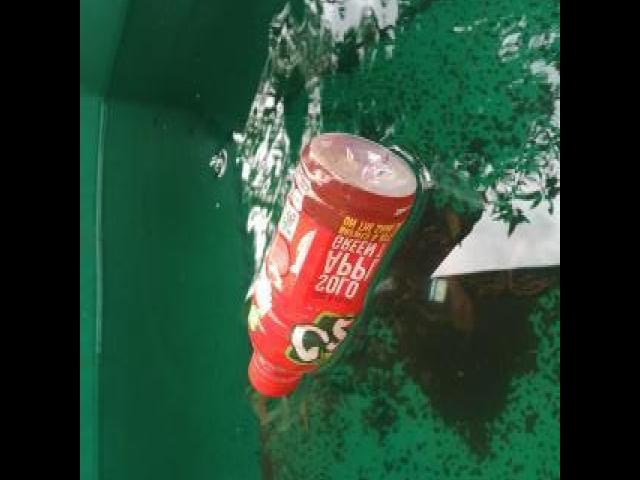Bottle: (238, 123, 428, 404)
